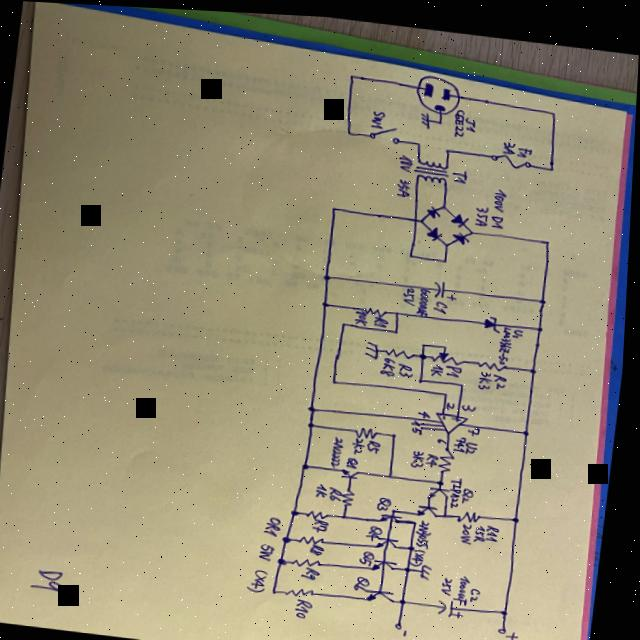capacitor: (439, 591, 471, 614), (432, 273, 462, 296)
crossover: (414, 213, 420, 217)
diode: (485, 309, 504, 327), (426, 221, 445, 236), (452, 208, 471, 222), (454, 226, 472, 240), (427, 200, 442, 213)
ground: (366, 336, 383, 356), (418, 107, 432, 124), (424, 559, 437, 575)
junction: (280, 553, 292, 562), (286, 531, 297, 540), (514, 509, 525, 518), (310, 400, 320, 409), (420, 348, 431, 356), (322, 296, 333, 304), (309, 417, 320, 425), (531, 360, 540, 369), (294, 505, 304, 513), (324, 269, 334, 277), (540, 291, 550, 299), (347, 69, 357, 77), (525, 423, 534, 431), (305, 458, 313, 467), (505, 603, 515, 610), (331, 201, 339, 209), (393, 427, 401, 435), (538, 319, 546, 327), (460, 375, 468, 383), (408, 248, 417, 255), (549, 104, 558, 111), (403, 593, 412, 600), (275, 585, 283, 592), (344, 509, 352, 516), (545, 233, 553, 240), (442, 252, 450, 259), (346, 125, 354, 132), (394, 324, 402, 331), (437, 114, 444, 121), (422, 337, 430, 343), (420, 373, 427, 379), (445, 143, 452, 149), (549, 160, 556, 166), (415, 137, 423, 142), (440, 475, 448, 480), (391, 468, 397, 474), (396, 305, 402, 311), (335, 375, 341, 380), (410, 562, 416, 567), (444, 237, 451, 241), (470, 225, 477, 229), (342, 318, 349, 322), (445, 387, 452, 391), (396, 503, 401, 508), (420, 214, 426, 218), (413, 541, 419, 545), (445, 340, 450, 344), (444, 200, 448, 204), (418, 516, 422, 520), (448, 509, 452, 512)
resistor: (432, 345, 470, 360), (441, 442, 460, 468), (461, 503, 487, 520), (297, 551, 328, 565), (479, 354, 512, 367), (386, 342, 417, 355), (291, 582, 321, 595), (301, 530, 331, 543), (357, 421, 382, 436), (365, 301, 390, 314), (309, 504, 334, 516), (345, 484, 358, 503)
switch: (368, 119, 404, 140)
terminal: (399, 616, 409, 625), (503, 620, 512, 628), (423, 421, 427, 424), (423, 417, 427, 420)
text: (416, 513, 437, 562), (498, 320, 517, 360), (458, 568, 477, 601), (332, 432, 349, 464), (252, 565, 274, 589), (417, 282, 434, 312), (452, 472, 468, 503), (452, 103, 468, 133), (490, 181, 508, 206), (298, 595, 319, 616), (266, 512, 287, 533), (261, 539, 281, 559), (396, 172, 414, 194), (369, 105, 387, 127), (382, 352, 400, 373), (474, 200, 492, 221), (403, 281, 419, 303), (369, 519, 388, 537), (356, 570, 375, 588), (398, 149, 415, 169), (413, 444, 429, 464), (353, 433, 369, 453), (480, 365, 496, 385), (487, 520, 507, 536), (464, 517, 478, 539), (476, 518, 492, 537), (399, 357, 418, 373), (445, 571, 460, 591), (314, 514, 335, 528), (363, 545, 380, 562), (330, 481, 348, 497), (306, 563, 326, 577), (312, 539, 332, 553), (452, 163, 469, 179), (317, 478, 333, 495), (464, 481, 478, 500), (432, 357, 448, 373), (427, 447, 443, 463), (356, 305, 372, 321), (494, 368, 510, 384), (435, 295, 451, 310), (501, 135, 518, 149), (456, 430, 470, 447), (473, 581, 487, 598), (448, 359, 465, 373), (381, 491, 396, 506), (370, 435, 386, 449), (467, 435, 483, 449), (349, 451, 364, 465), (491, 209, 506, 223), (463, 112, 477, 127), (516, 140, 533, 152), (375, 311, 392, 322), (463, 397, 481, 407), (419, 404, 436, 414), (469, 421, 485, 431), (512, 624, 525, 636), (513, 322, 527, 333), (439, 431, 451, 441), (414, 422, 426, 431), (449, 395, 460, 404), (405, 623, 414, 632), (414, 414, 424, 421), (454, 411, 465, 417), (444, 409, 450, 414)
transformer: (412, 150, 453, 182)
transistor: (367, 580, 403, 600), (377, 528, 406, 547), (374, 551, 403, 569), (417, 496, 444, 514), (381, 506, 409, 522), (429, 479, 455, 496), (341, 463, 367, 478)
